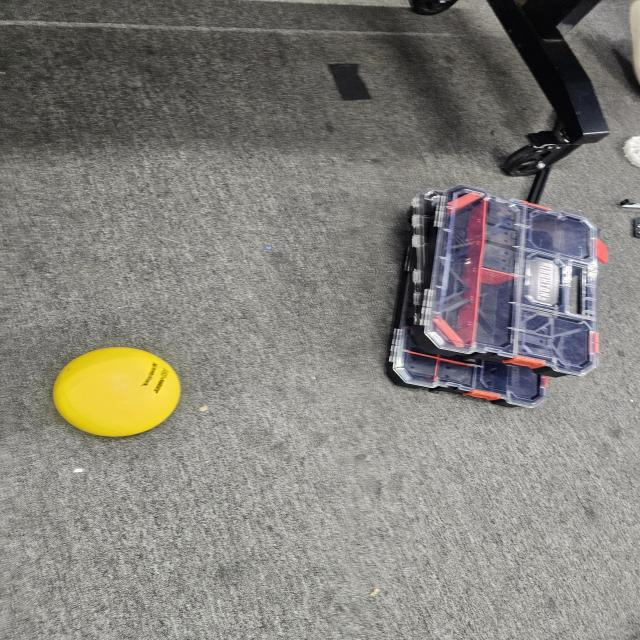Fuel: (47, 341, 190, 448)
